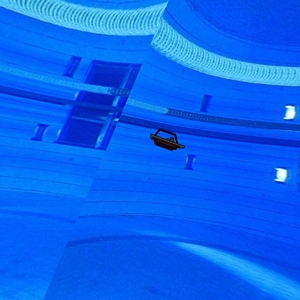submarine: (147, 124, 192, 160)
